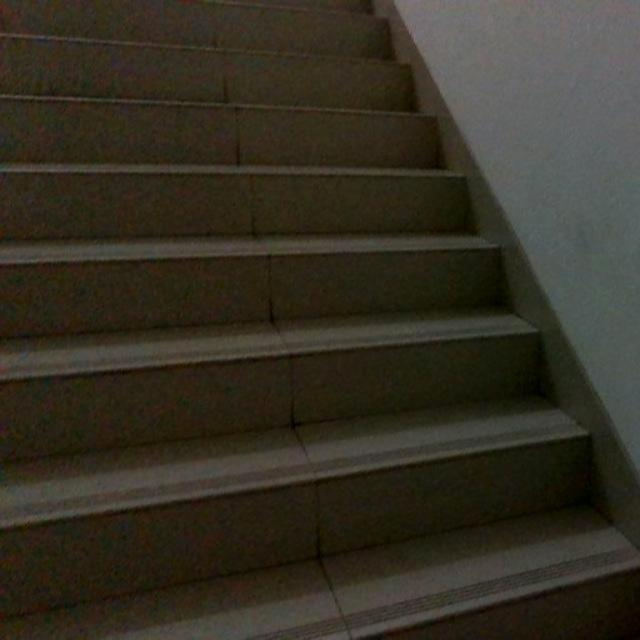stair: (0, 0, 621, 630)
